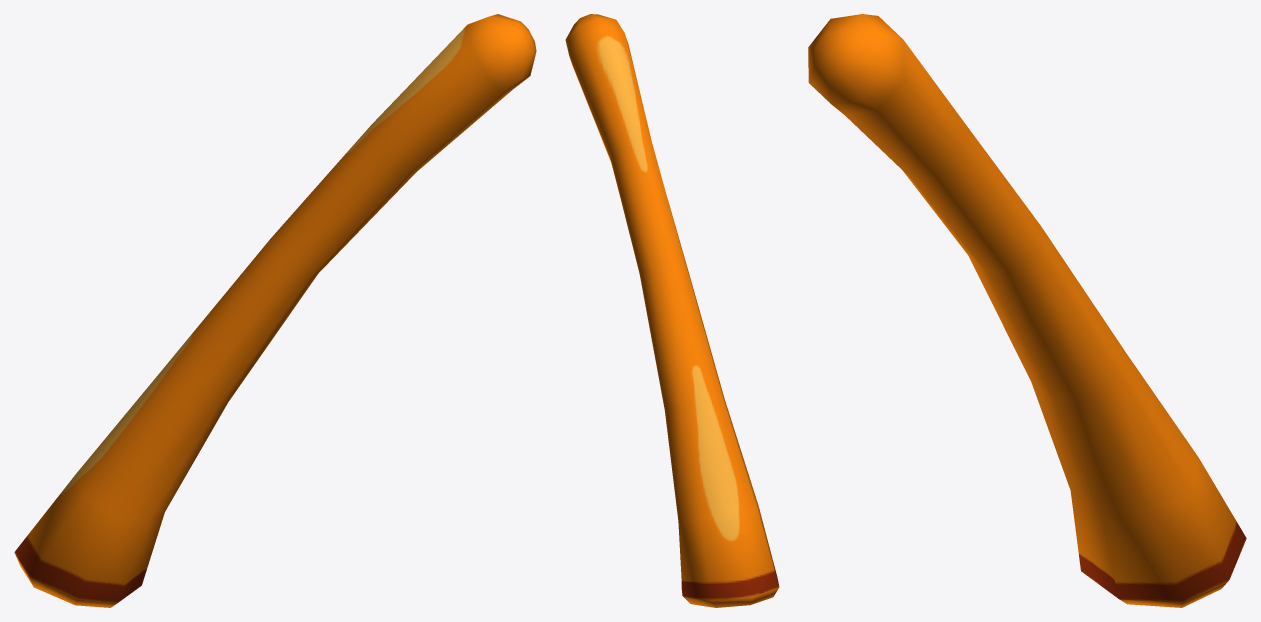
Rendered from Spider_002_LLeg_001_R.fbx.
The picture shows the model from 3 angles, left to right: view 1: azimuth 30°, elevation 25°; view 2: azimuth 150°, elevation 25°; view 3: azimuth 270°, elevation 25°; orthographic projection. The views are drawn at different scales.
Visible parts, largest first — view 1: LowerLeg_001_R; view 2: LowerLeg_001_R; view 3: LowerLeg_001_R.
Part boxes in pixels (x1,y1,x2,y2): LowerLeg_001_R: (14, 14, 536, 607); LowerLeg_001_R: (565, 14, 779, 607); LowerLeg_001_R: (808, 14, 1246, 607).
Bounding box in the file's own units: 30.47 × 44.9 × 23.9.
